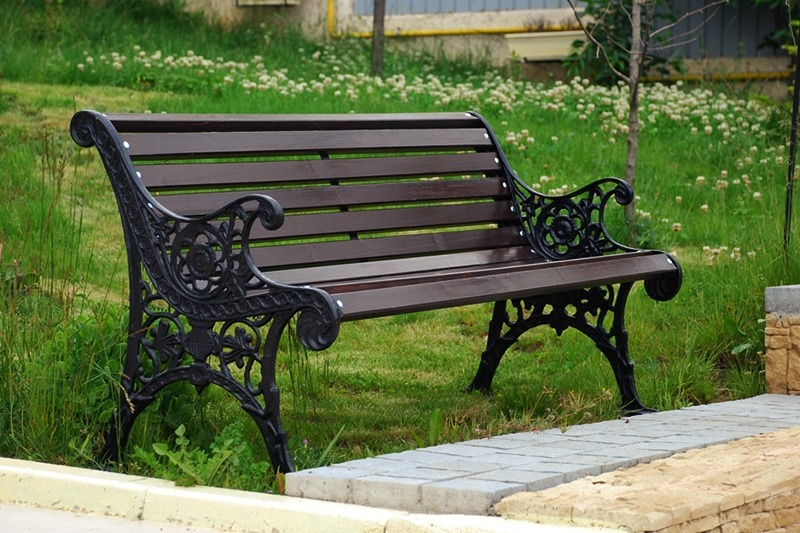bench: (67, 106, 675, 454)
